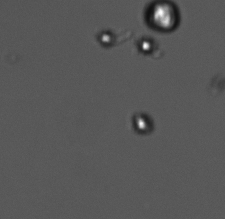Living Cell: (145, 1, 181, 32), (131, 114, 154, 134), (139, 38, 154, 54), (99, 32, 113, 46)
